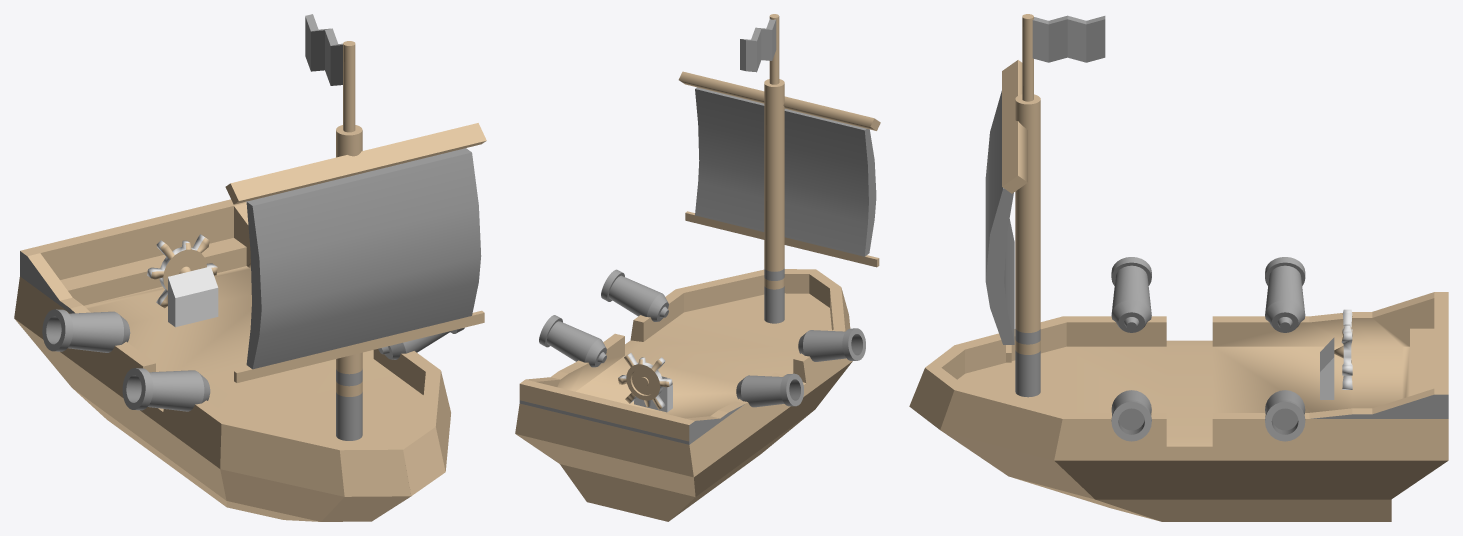
The model's file is modelShip.fbx.
3 views of the same model, side by side, from view 1: azimuth 30°, elevation 25°; view 2: azimuth 150°, elevation 25°; view 3: azimuth 270°, elevation 25° (orthographic). The views are drawn at different scales.
Visible parts, largest first — view 1: Hull, Sail, Sail.002, Mast, Cannon_RR, Cannon_FR, Sail.001, WheelBase, Wheel, Flag, Cannon_FL; view 2: Hull, Sail, Mast, Sail.002, Cannon_RL, Cannon_FL, Cannon_RR, Cannon_FR, Wheel, Sail.001, Flag, WheelBase; view 3: Hull, Mast, Sail, Flag, Sail.002, Cannon_RR, Cannon_FR, Cannon_FL, Cannon_RL, Wheel, WheelBase.
Part boxes in pixels (x1=…): Hull: x1=14, y1=199, x2=450, y2=521; Sail: x1=246, y1=148, x2=481, y2=369; Sail.002: x1=225, y1=123, x2=486, y2=204; Mast: x1=336, y1=41, x2=362, y2=440; Cannon_RR: x1=42, y1=309, x2=130, y2=352; Cannon_FR: x1=122, y1=368, x2=210, y2=411; Sail.001: x1=234, y1=310, x2=484, y2=382; WheelBase: x1=168, y1=266, x2=218, y2=327; Wheel: x1=147, y1=234, x2=217, y2=308; Flag: x1=305, y1=14, x2=342, y2=85; Cannon_FL: x1=378, y1=327, x2=464, y2=359; Hull: x1=515, y1=269, x2=852, y2=521; Sail: x1=695, y1=87, x2=876, y2=256; Mast: x1=764, y1=14, x2=784, y2=323; Sail.002: x1=678, y1=71, x2=880, y2=130; Cannon_RL: x1=539, y1=315, x2=606, y2=367; Cannon_FL: x1=601, y1=269, x2=668, y2=321; Cannon_RR: x1=736, y1=373, x2=803, y2=407; Cannon_FR: x1=798, y1=328, x2=865, y2=361; Wheel: x1=618, y1=353, x2=672, y2=409; Sail.001: x1=685, y1=211, x2=879, y2=267; Flag: x1=740, y1=19, x2=776, y2=72; WheelBase: x1=634, y1=376, x2=672, y2=412; Hull: x1=909, y1=292, x2=1448, y2=521; Mast: x1=1015, y1=14, x2=1040, y2=397; Sail: x1=985, y1=91, x2=1014, y2=344; Flag: x1=1032, y1=15, x2=1105, y2=62; Sail.002: x1=1002, y1=60, x2=1027, y2=193; Cannon_RR: x1=1265, y1=257, x2=1305, y2=332; Cannon_FR: x1=1111, y1=257, x2=1151, y2=332; Cannon_FL: x1=1111, y1=390, x2=1151, y2=441; Cannon_RL: x1=1265, y1=390, x2=1305, y2=441; Wheel: x1=1334, y1=309, x2=1352, y2=389; WheelBase: x1=1320, y1=337, x2=1334, y2=399.
Size of what is drawn, in the model's own units: 498 by 726 by 739.
